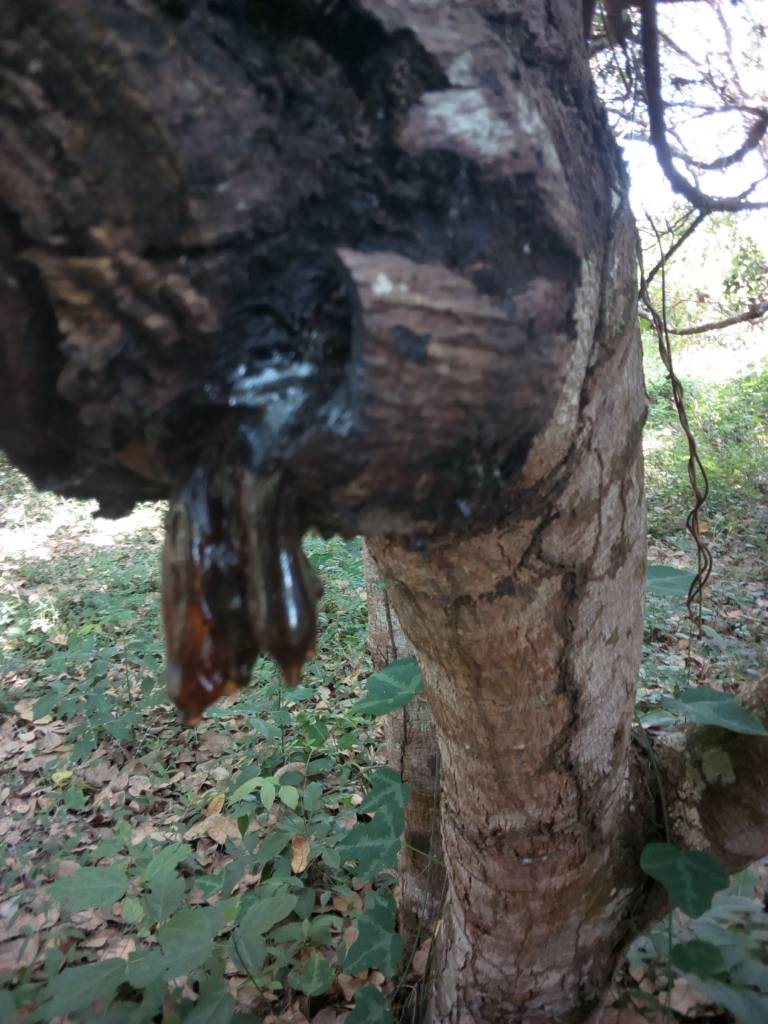ploceadorus ferrugineus: (81, 291, 358, 769)
